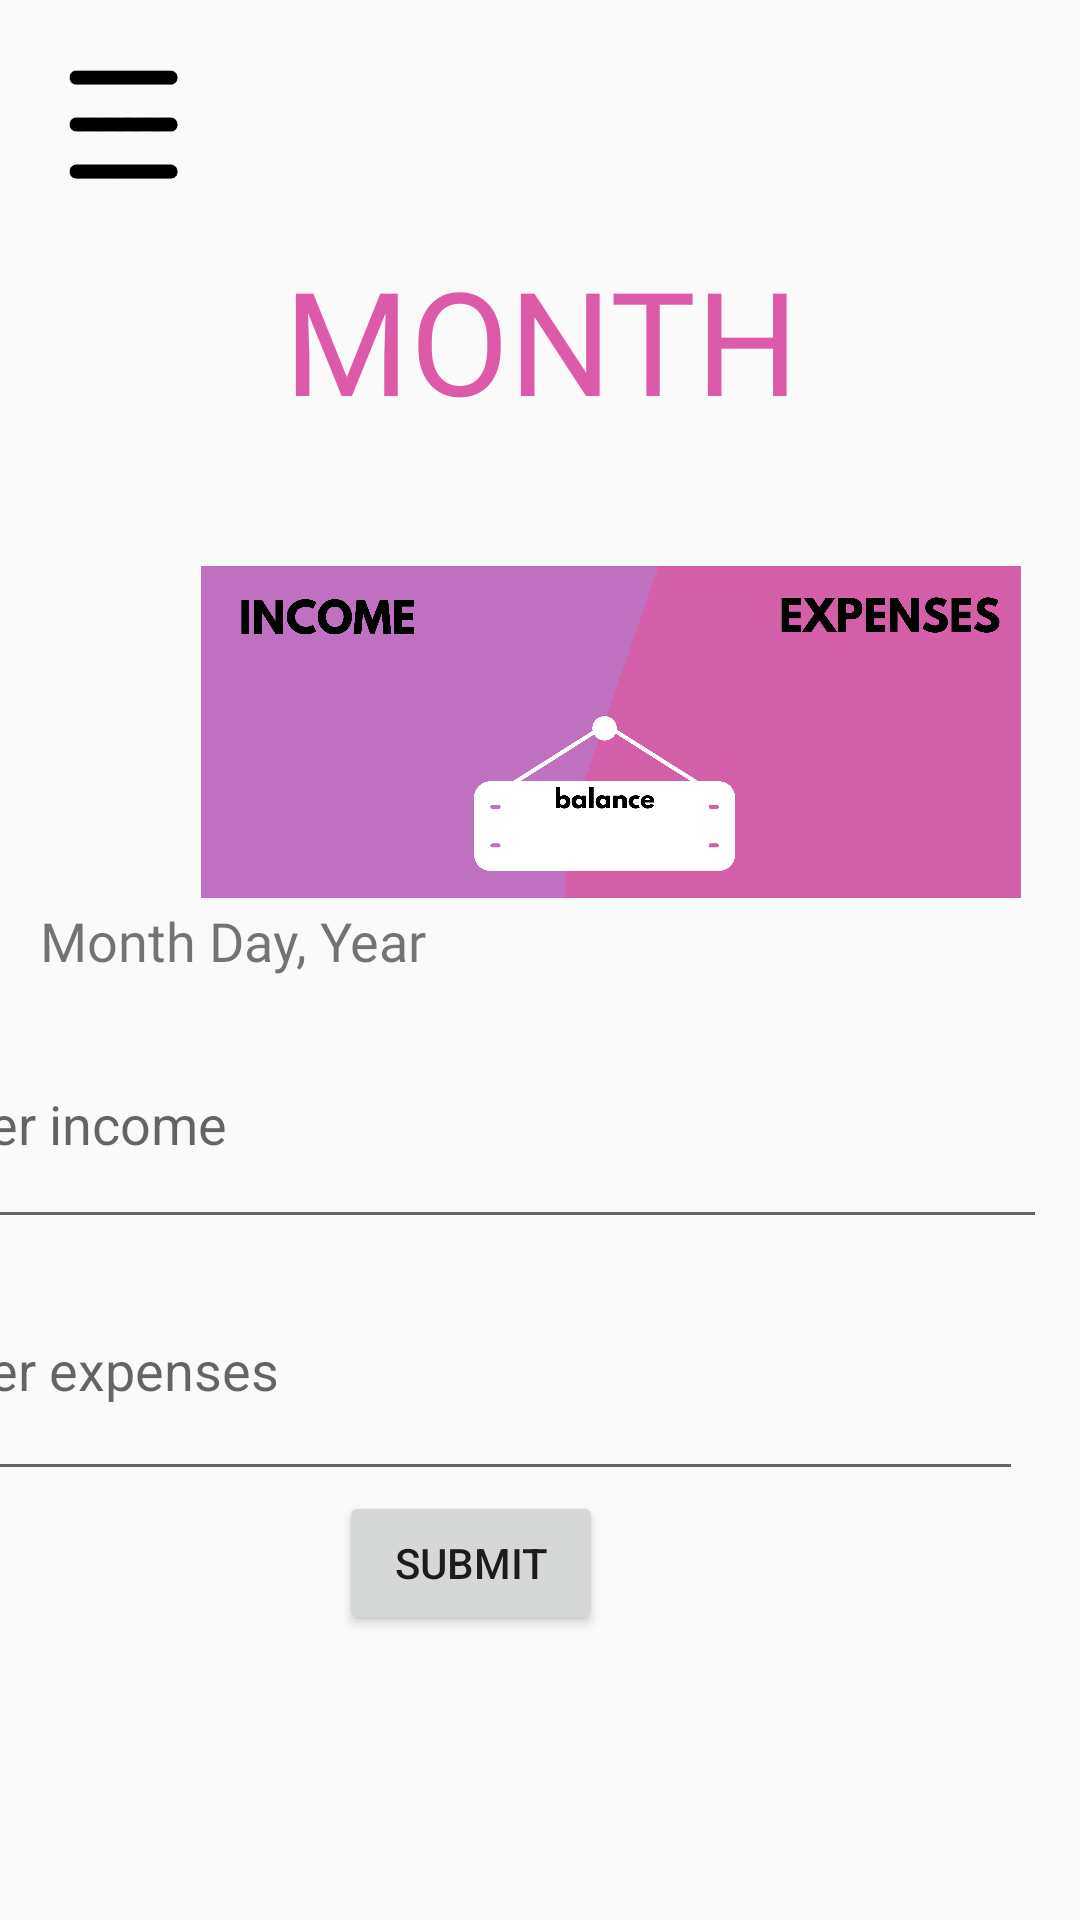

Icons on this 1080 x 1920 Android screen, each with the point to tap as [x,y]:
Hamburger: [123,124]
